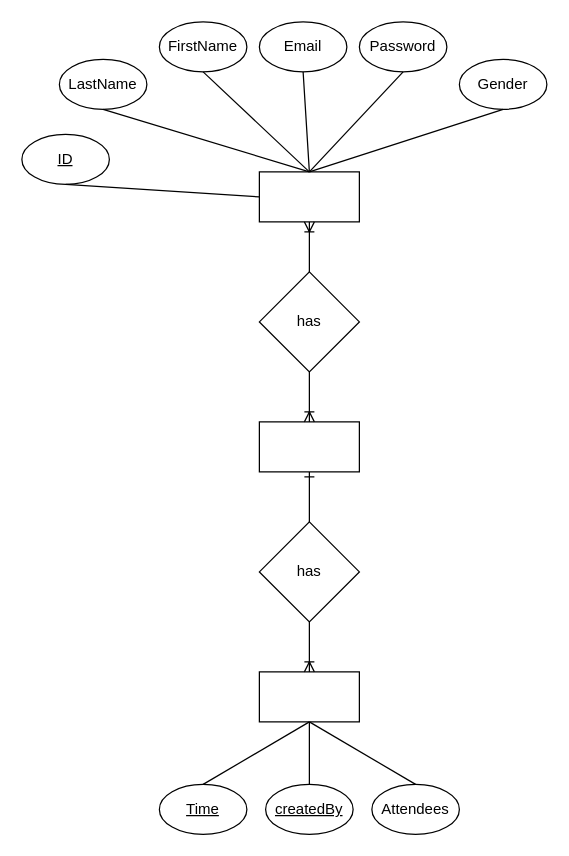
This 569x856 diagram has some shape labels left out. The centre of each missing label's shape, as x and y in pixels:
"Calendar" goes at (308,446).
"Event" goes at (308,696).
"Users" goes at (308,196).
